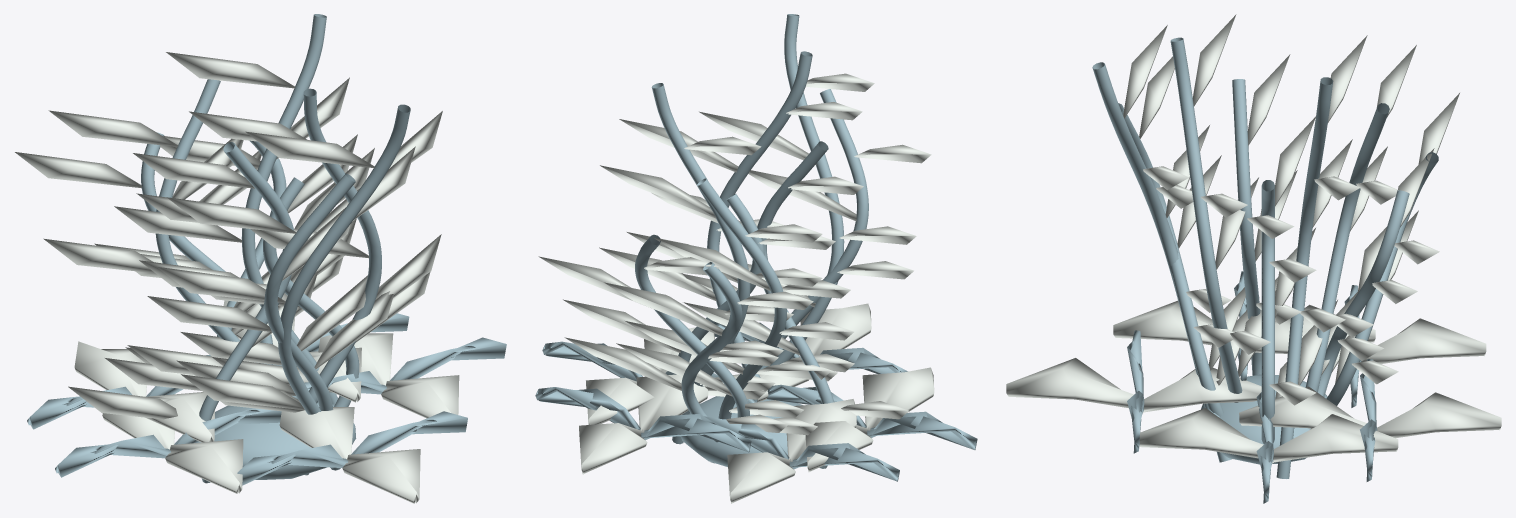
File: bio_aquatic_frond_15_far.glb
3 renders of one model, left to right at view 1: azimuth 30°, elevation 25°; view 2: azimuth 150°, elevation 25°; view 3: azimuth 270°, elevation 25°, orthographic. The views are drawn at different scales.
Parts seen in each view (by area): view 1: Ruffled aquatic blade.010, Ruffled aquatic blade.035, Ruffled aquatic blade.040, Ruffled aquatic blade.005, Ruffled aquatic blade.025, Ruffled aquatic blade.020, Low buttress leaf.009, Flexible stipe.002, Low buttress leaf.017, Low buttress leaf.001, Low buttress leaf.005, Ruffled aquatic blade.015 (+17 smaller); view 2: Ruffled aquatic blade.030, Ruffled aquatic blade.005, Low buttress leaf.013, Ruffled aquatic blade.015, Low buttress leaf.017, Ruffled aquatic blade.025, Low buttress leaf.005, Ruffled aquatic blade.020, Ruffled aquatic blade.010, Low buttress leaf.012, Ruffled aquatic blade.040, Ruffled aquatic blade.035 (+17 smaller); view 3: Low buttress leaf.001, Low buttress leaf.009, Low buttress leaf.013, Flexible stipe.005, Flexible stipe.008, Ruffled aquatic blade.040, Ruffled aquatic blade.025, Low buttress leaf.005, Ruffled aquatic blade.010, Flexible stipe.001, Ruffled aquatic blade.035, Flexible stipe.004 (+15 smaller).
Boxes of the visible parts, bbox=[...] form: Ruffled aquatic blade.010: bbox=[156, 131, 415, 410]; Ruffled aquatic blade.035: bbox=[147, 197, 393, 412]; Ruffled aquatic blade.040: bbox=[114, 52, 356, 366]; Ruffled aquatic blade.005: bbox=[43, 110, 270, 374]; Ruffled aquatic blade.025: bbox=[176, 111, 442, 395]; Ruffled aquatic blade.020: bbox=[68, 148, 374, 419]; Low buttress leaf.009: bbox=[279, 407, 420, 503]; Flexible stipe.002: bbox=[278, 104, 410, 470]; Low buttress leaf.017: bbox=[102, 389, 243, 493]; Low buttress leaf.001: bbox=[318, 333, 459, 418]; Low buttress leaf.005: bbox=[74, 341, 214, 442]; Ruffled aquatic blade.015: bbox=[105, 134, 357, 390]; Ruffled aquatic blade.030: bbox=[564, 282, 813, 432]; Ruffled aquatic blade.005: bbox=[625, 224, 853, 418]; Low buttress leaf.013: bbox=[579, 374, 708, 474]; Ruffled aquatic blade.015: bbox=[538, 256, 817, 435]; Low buttress leaf.017: bbox=[805, 367, 934, 472]; Ruffled aquatic blade.025: bbox=[599, 102, 862, 379]; Low buttress leaf.005: bbox=[727, 399, 856, 503]; Ruffled aquatic blade.020: bbox=[652, 176, 908, 419]; Ruffled aquatic blade.010: bbox=[699, 73, 916, 372]; Low buttress leaf.012: bbox=[535, 387, 751, 452]; Ruffled aquatic blade.040: bbox=[600, 136, 822, 391]; Ruffled aquatic blade.035: bbox=[682, 144, 931, 381]; Low buttress leaf.001: bbox=[1139, 408, 1398, 463]; Low buttress leaf.009: bbox=[1006, 358, 1261, 412]; Low buttress leaf.013: bbox=[1239, 386, 1501, 438]; Flexible stipe.005: bbox=[1170, 37, 1242, 402]; Flexible stipe.008: bbox=[1276, 77, 1333, 478]; Ruffled aquatic blade.040: bbox=[1298, 35, 1367, 385]; Ruffled aquatic blade.025: bbox=[1192, 14, 1275, 376]; Low buttress leaf.005: bbox=[1255, 318, 1486, 363]; Ruffled aquatic blade.010: bbox=[1123, 25, 1245, 370]; Flexible stipe.001: bbox=[1306, 103, 1389, 392]; Ruffled aquatic blade.035: bbox=[1139, 56, 1259, 385]; Flexible stipe.004: bbox=[1232, 79, 1261, 375].
Bounding box in the file's own units: 2.22 × 1.89 × 2.09.
